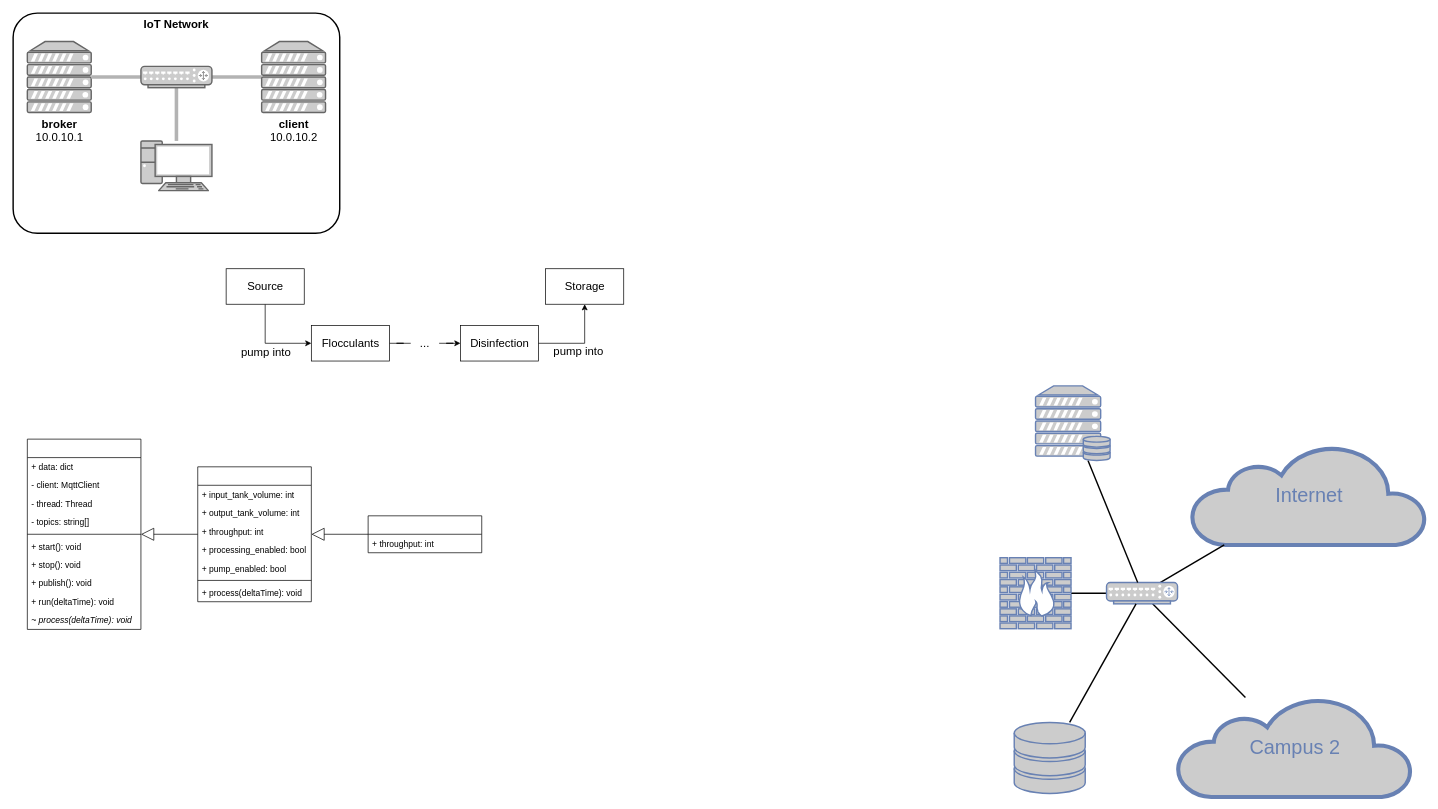
The diagram is 1438 pixels wide and 809 high, and some of its shapes have lost their labels. The shapes that lost their labels are listed below. From the top down, each one's box as (x1, y1, x2, y2) in pixels, then its label:
(140, 65, 212, 88): Virtual Switch
(140, 140, 212, 191): kali 10.0.10.51
(27, 438, 141, 629): MqttUnit
(197, 466, 311, 602): ProcessingUnit
(367, 515, 482, 553): SourceUnit
